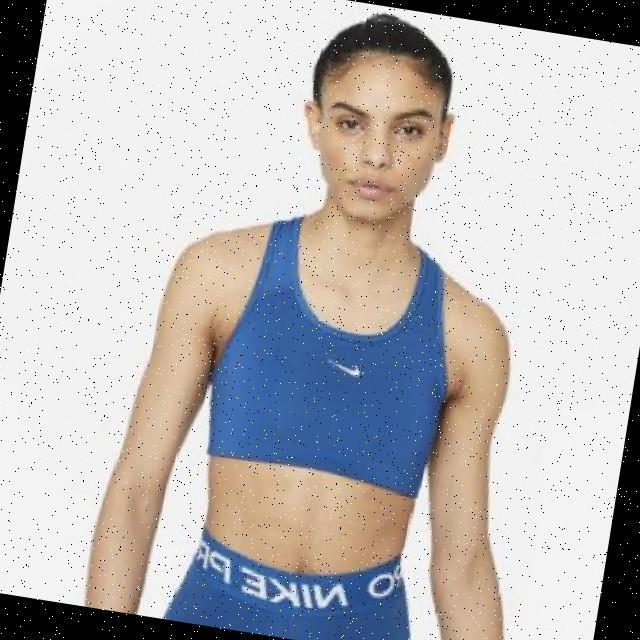Nike: (329, 359, 365, 377)
